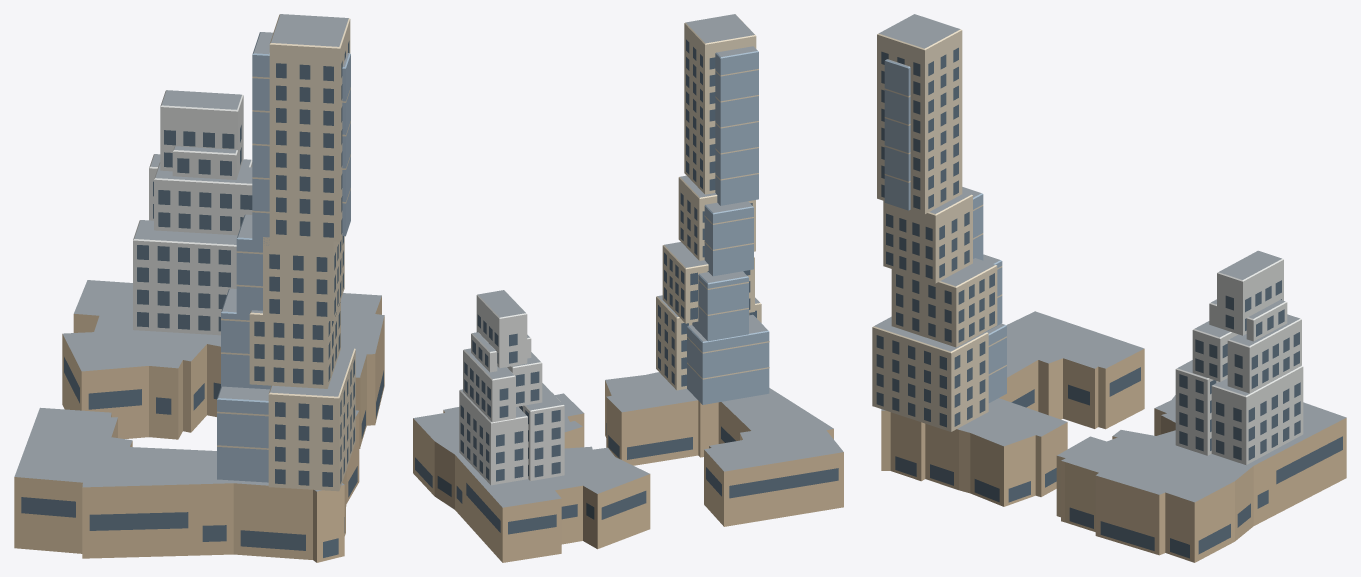
The picture shows the model from 3 angles, left to right: view 1: azimuth 30°, elevation 25°; view 2: azimuth 150°, elevation 25°; view 3: azimuth 270°, elevation 25°; orthographic projection. The views are drawn at different scales.
Visible parts, largest first — view 1: the-grand-la; view 2: the-grand-la; view 3: the-grand-la.
Boxes of the visible parts, left/top/right/bottom form: the-grand-la: left=14, top=14, right=384, bottom=562; the-grand-la: left=413, top=14, right=843, bottom=562; the-grand-la: left=872, top=14, right=1346, bottom=562.
Size of the model in its own units: 149 by 158 by 156.
